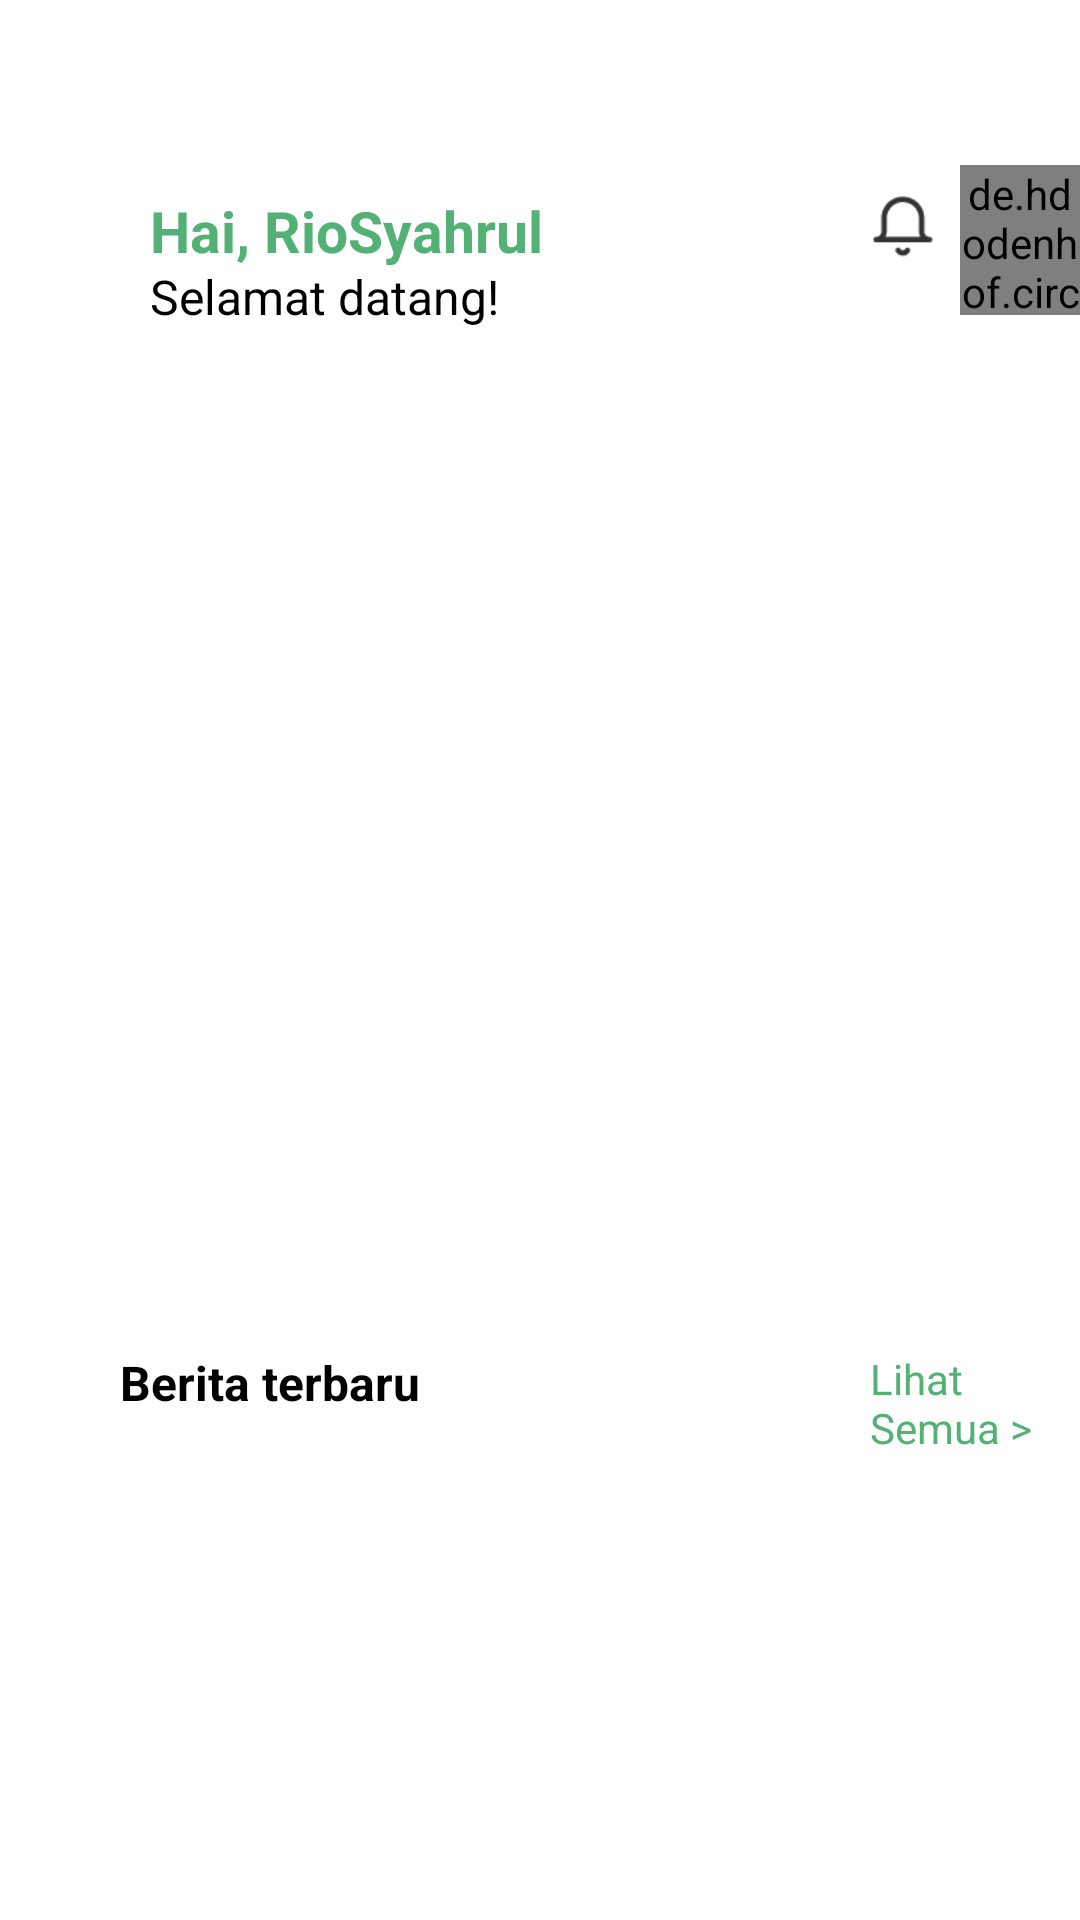

Icon bounding boxes for this 1080px×1920px phone screenshot, format [x1=x1, y1=y1, x2=x2, y2=y2]:
notification: [x1=873, y1=196, x2=933, y2=257]
